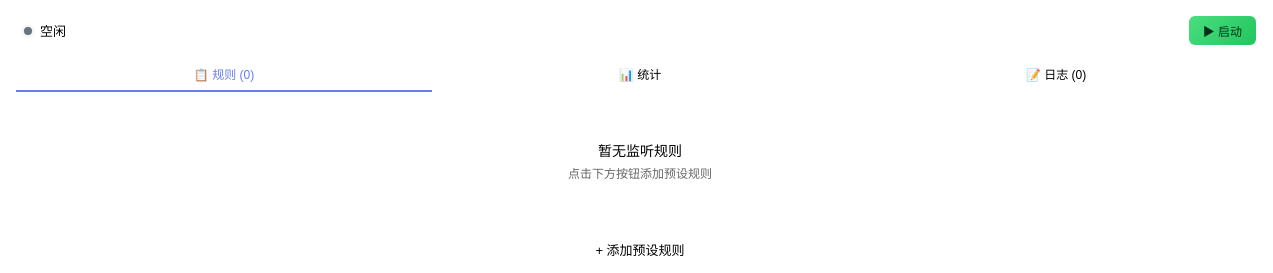
Test case: WatchPanel › Tab 切换 › 点击统计 Tab 应该切换到统计面板
The width and height of the screenshot is (1273, 273).
Click the button "📊 统计": coordinates (640, 74) [432,57,848,92]
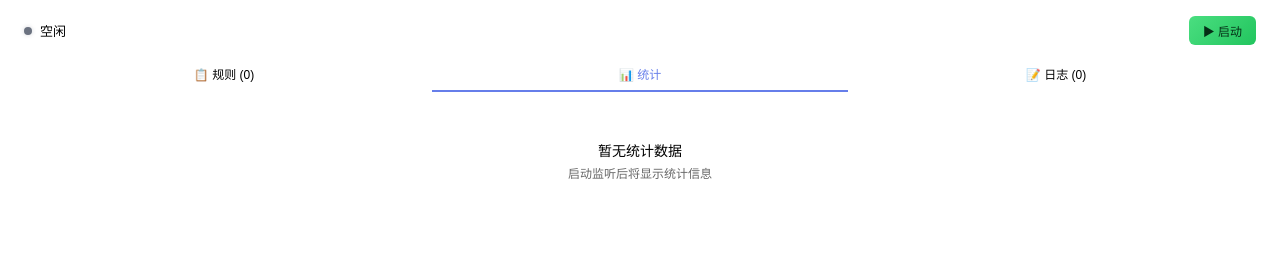
Expected: the text "暂无统计数据" is shown, [598,144,682,159]
Expected: the text "启动监听后将显示统计信息" is shown, [568,167,712,181]
